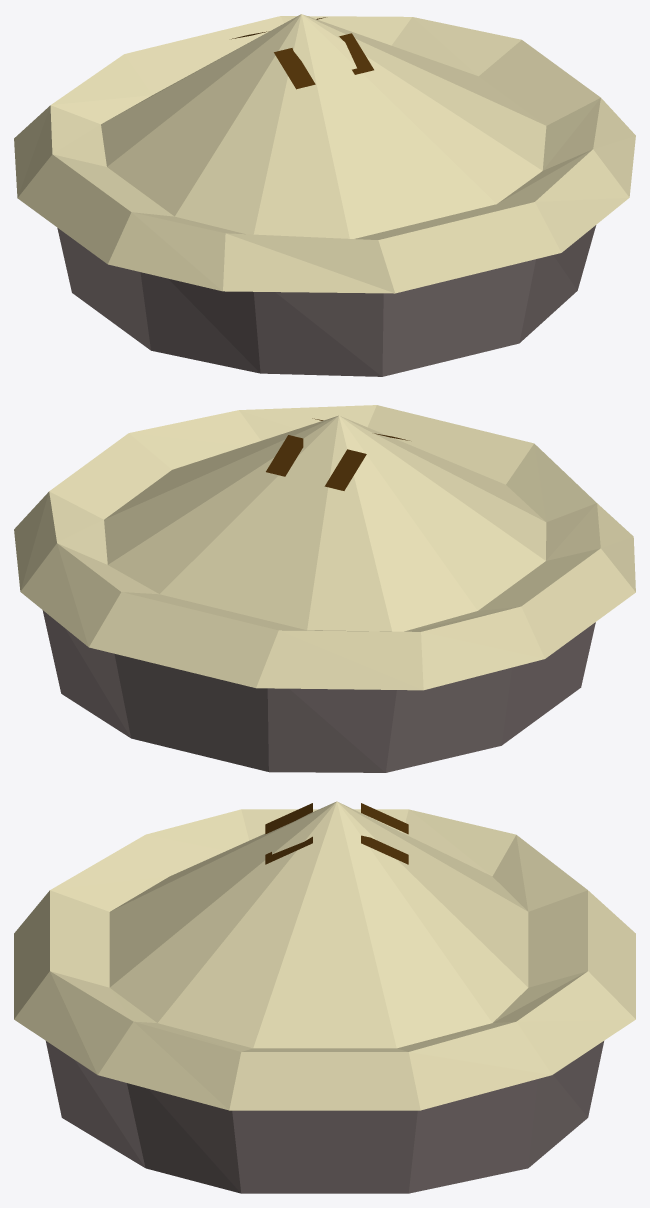
Rendered from inv_uncooked_meat_pie.obj.
The picture shows the model from 3 angles, top to bottom: view 1: azimuth 30°, elevation 25°; view 2: azimuth 150°, elevation 25°; view 3: azimuth 270°, elevation 25°; orthographic projection. The views are drawn at different scales.
Size of the model in its own units: 0.4219 by 0.1953 by 0.4062.
